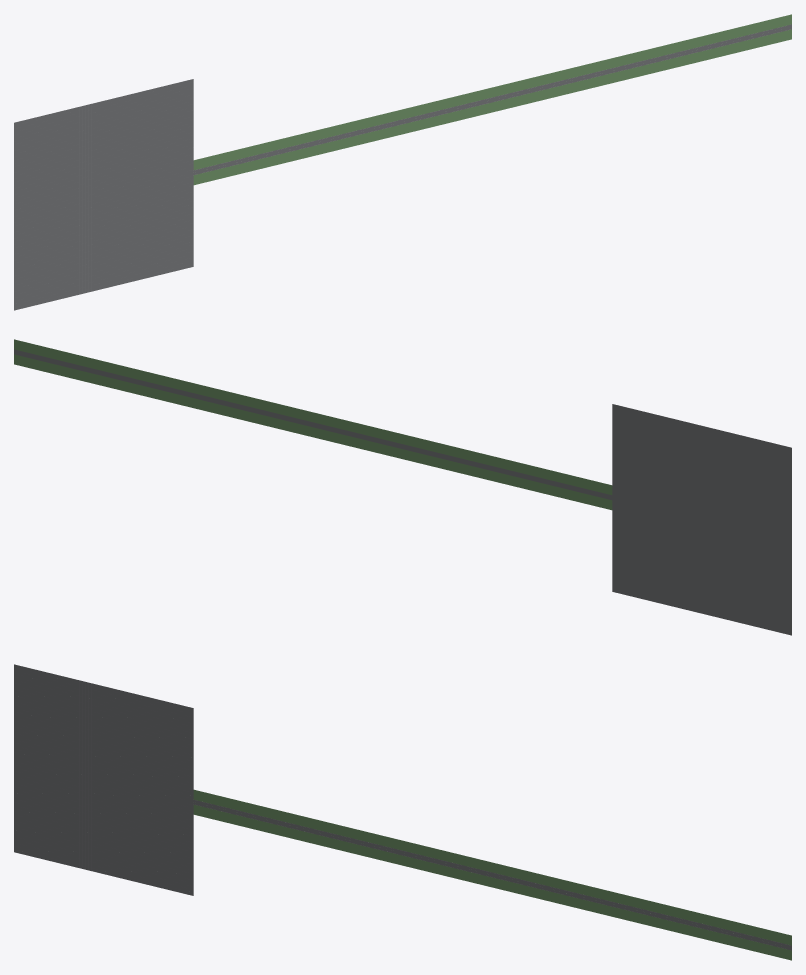
The model's file is flat.glb.
3 renders of one model, top to bottom at view 1: azimuth 30°, elevation 25°; view 2: azimuth 150°, elevation 25°; view 3: azimuth 330°, elevation 25°, orthographic.
Visible parts, largest first — view 1: part0, part225, part227, part123; view 2: part0, part227, part225, part123; view 3: part0, part227, part225, part123.
Boxes of the visible parts, bbox=[...] form: part0: bbox=[14, 79, 193, 310]; part225: bbox=[193, 29, 791, 185]; part227: bbox=[193, 14, 791, 169]; part123: bbox=[193, 24, 791, 174]; part0: bbox=[612, 404, 791, 635]; part227: bbox=[14, 339, 612, 494]; part225: bbox=[14, 354, 612, 510]; part123: bbox=[14, 349, 612, 499]; part0: bbox=[14, 664, 193, 895]; part227: bbox=[193, 789, 791, 945]; part225: bbox=[193, 805, 791, 960]; part123: bbox=[193, 800, 791, 950].
Size of the model in its own units: 2600 by 600 by 0.025.
